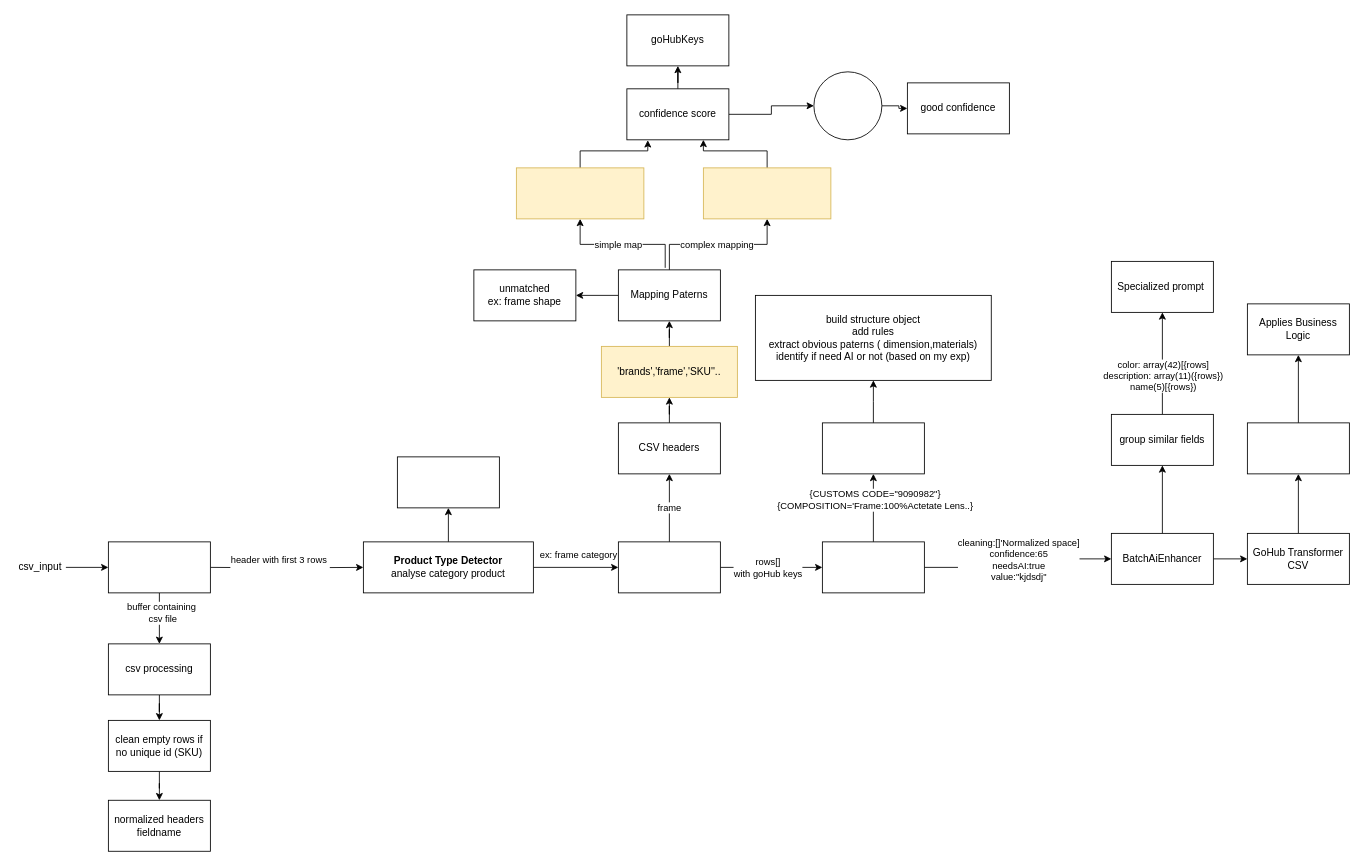
Image size: 1364x866. Some labels were removed from this diagram. The centre of each missing label's shape, as x and y in pixels:
Column Mapper: (x=669, y=567)
DataCleaner: (x=873, y=567)
Destruct columns ex: FRAME: {LensWidth,BridgeFields..}: (x=767, y=193)
File reader csv/xlsx/xls: (x=159, y=567)
if input == output name ?: (x=847, y=105)
LENS FRAMES EYE_GLASS..: (x=448, y=482)
Mapping with all the data: (x=1298, y=448)
Process all rows: (x=873, y=448)
SKU:["reference","ref"..] UPC:["ean","upc"..]: (x=580, y=193)
